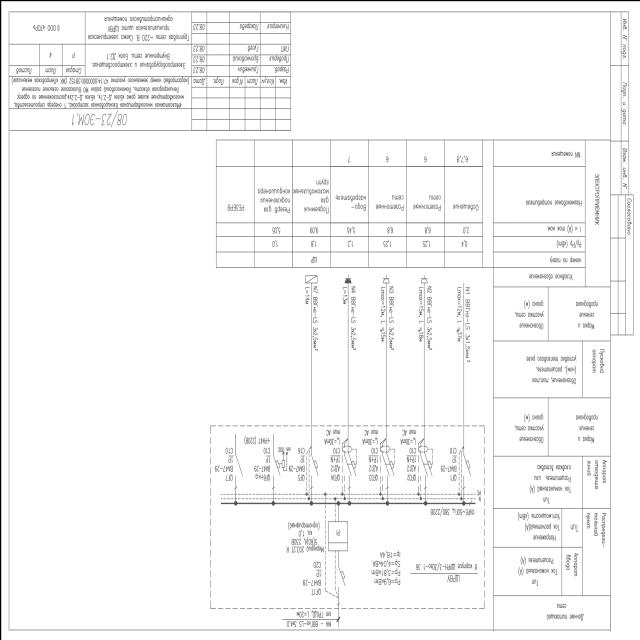-: (413, 559, 478, 585), (283, 518, 323, 554), (242, 434, 270, 480), (300, 558, 322, 586), (214, 445, 232, 471), (439, 444, 457, 470), (288, 447, 304, 472), (404, 446, 416, 472), (329, 446, 340, 472), (367, 446, 378, 471)
ITU: (280, 457, 284, 469)
QF: (270, 449, 280, 481), (462, 455, 471, 479), (310, 453, 318, 478), (336, 564, 344, 588)
QFD: (417, 444, 433, 480), (379, 444, 395, 478), (341, 444, 356, 478)
QS: (232, 452, 242, 478)
WH: (327, 519, 347, 551)
